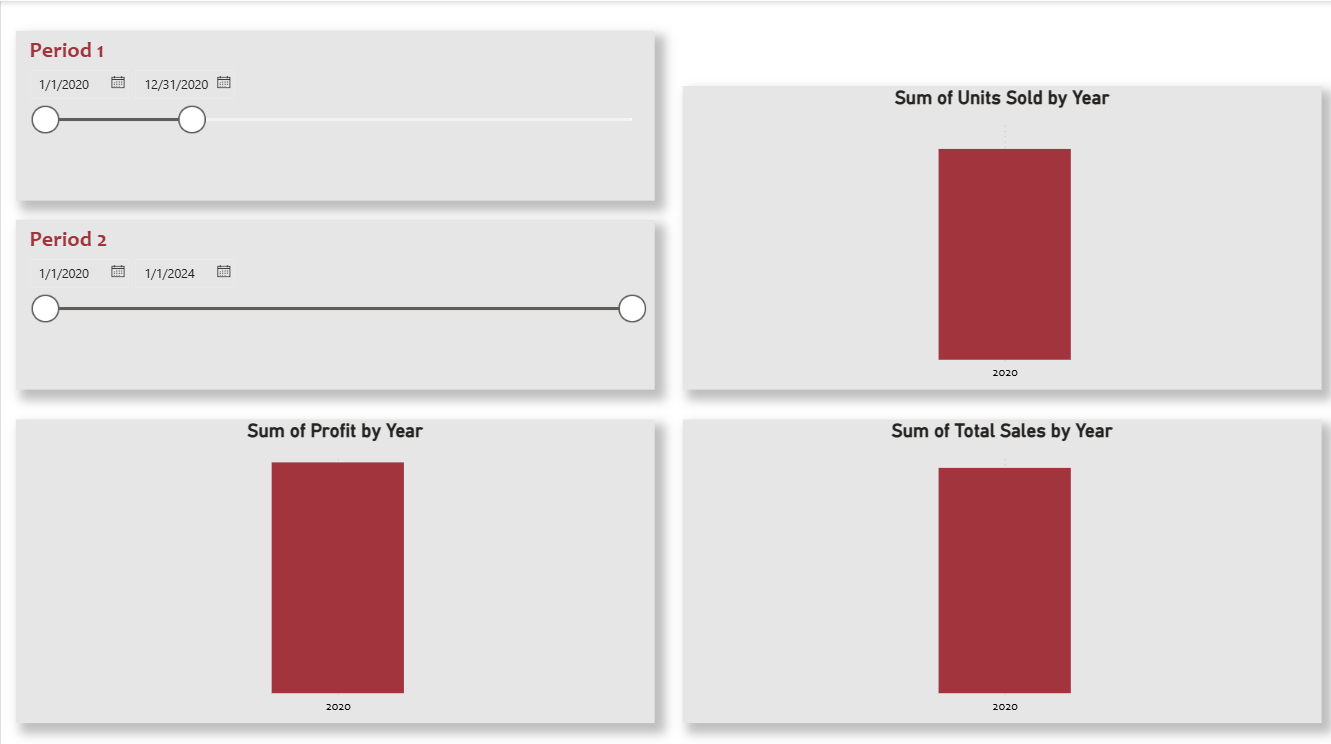

This screenshot's page, from the dashboard's own definition file:
{"tool":"powerbi","page":{"name":"Period Compare","canvas":[1280,720],"ordinal":2},"visuals":[{"type":"columnChart","fields":{"Category":["Fact Table.Date (dd/mm/yyyy).Variation.Date Hierarchy.Year","Fact Table.Date (dd/mm/yyyy).Variation.Date Hierarchy.Quarter","Fact Table.Date (dd/mm/yyyy).Variation.Date Hierarchy.Month","Fact Table.Date (dd/mm/yyyy).Variation.Date Hierarchy.Day"],"Y":["Sum(Fact Table.Total Sales )"]},"box":[653.8,401.3,612.3,291.3],"z":0},{"type":"columnChart","fields":{"Category":["Fact Table.Date (dd/mm/yyyy).Variation.Date Hierarchy.Year","Fact Table.Date (dd/mm/yyyy).Variation.Date Hierarchy.Quarter","Fact Table.Date (dd/mm/yyyy).Variation.Date Hierarchy.Month","Fact Table.Date (dd/mm/yyyy).Variation.Date Hierarchy.Day"],"Y":["Sum(Fact Table.Profit)"]},"box":[14.2,401.3,612.3,291.3],"z":1000},{"type":"columnChart","fields":{"Category":["Fact Table.Date (dd/mm/yyyy).Variation.Date Hierarchy.Year","Fact Table.Date (dd/mm/yyyy).Variation.Date Hierarchy.Quarter","Fact Table.Date (dd/mm/yyyy).Variation.Date Hierarchy.Month","Fact Table.Date (dd/mm/yyyy).Variation.Date Hierarchy.Day"],"Y":["Sum(Fact Table.Units Sold)"]},"box":[653.8,81.6,612.3,291.3],"z":2000},{"type":"slicer","fields":{"Values":["Fact Table.Date (dd/mm/yyyy)"]},"box":[14.2,28.5,612.3,163.1],"z":3000},{"type":"slicer","fields":{"Values":["Fact Table.Date (dd/mm/yyyy)"]},"box":[14.2,209.7,612.3,163.1],"z":4000}]}

Visuals, with their boxes in screenshot pixels (x1, y1, x2, y2), scaled from the page's 1280x720 canvas onto the 1331x744 screenshot:
columnChart - Fact Table.Date (dd/mm/yyyy).Variation.Date Hierarchy.Year x Fact Table.Date (dd/mm/yyyy).Variation.Date Hierarchy.Quarter: box(680, 415, 1317, 716)
columnChart - Fact Table.Date (dd/mm/yyyy).Variation.Date Hierarchy.Year x Fact Table.Date (dd/mm/yyyy).Variation.Date Hierarchy.Quarter: box(15, 415, 651, 716)
columnChart - Fact Table.Date (dd/mm/yyyy).Variation.Date Hierarchy.Year x Fact Table.Date (dd/mm/yyyy).Variation.Date Hierarchy.Quarter: box(680, 84, 1317, 385)
slicer - Fact Table.Date (dd/mm/yyyy): box(15, 29, 651, 198)
slicer - Fact Table.Date (dd/mm/yyyy): box(15, 217, 651, 385)
